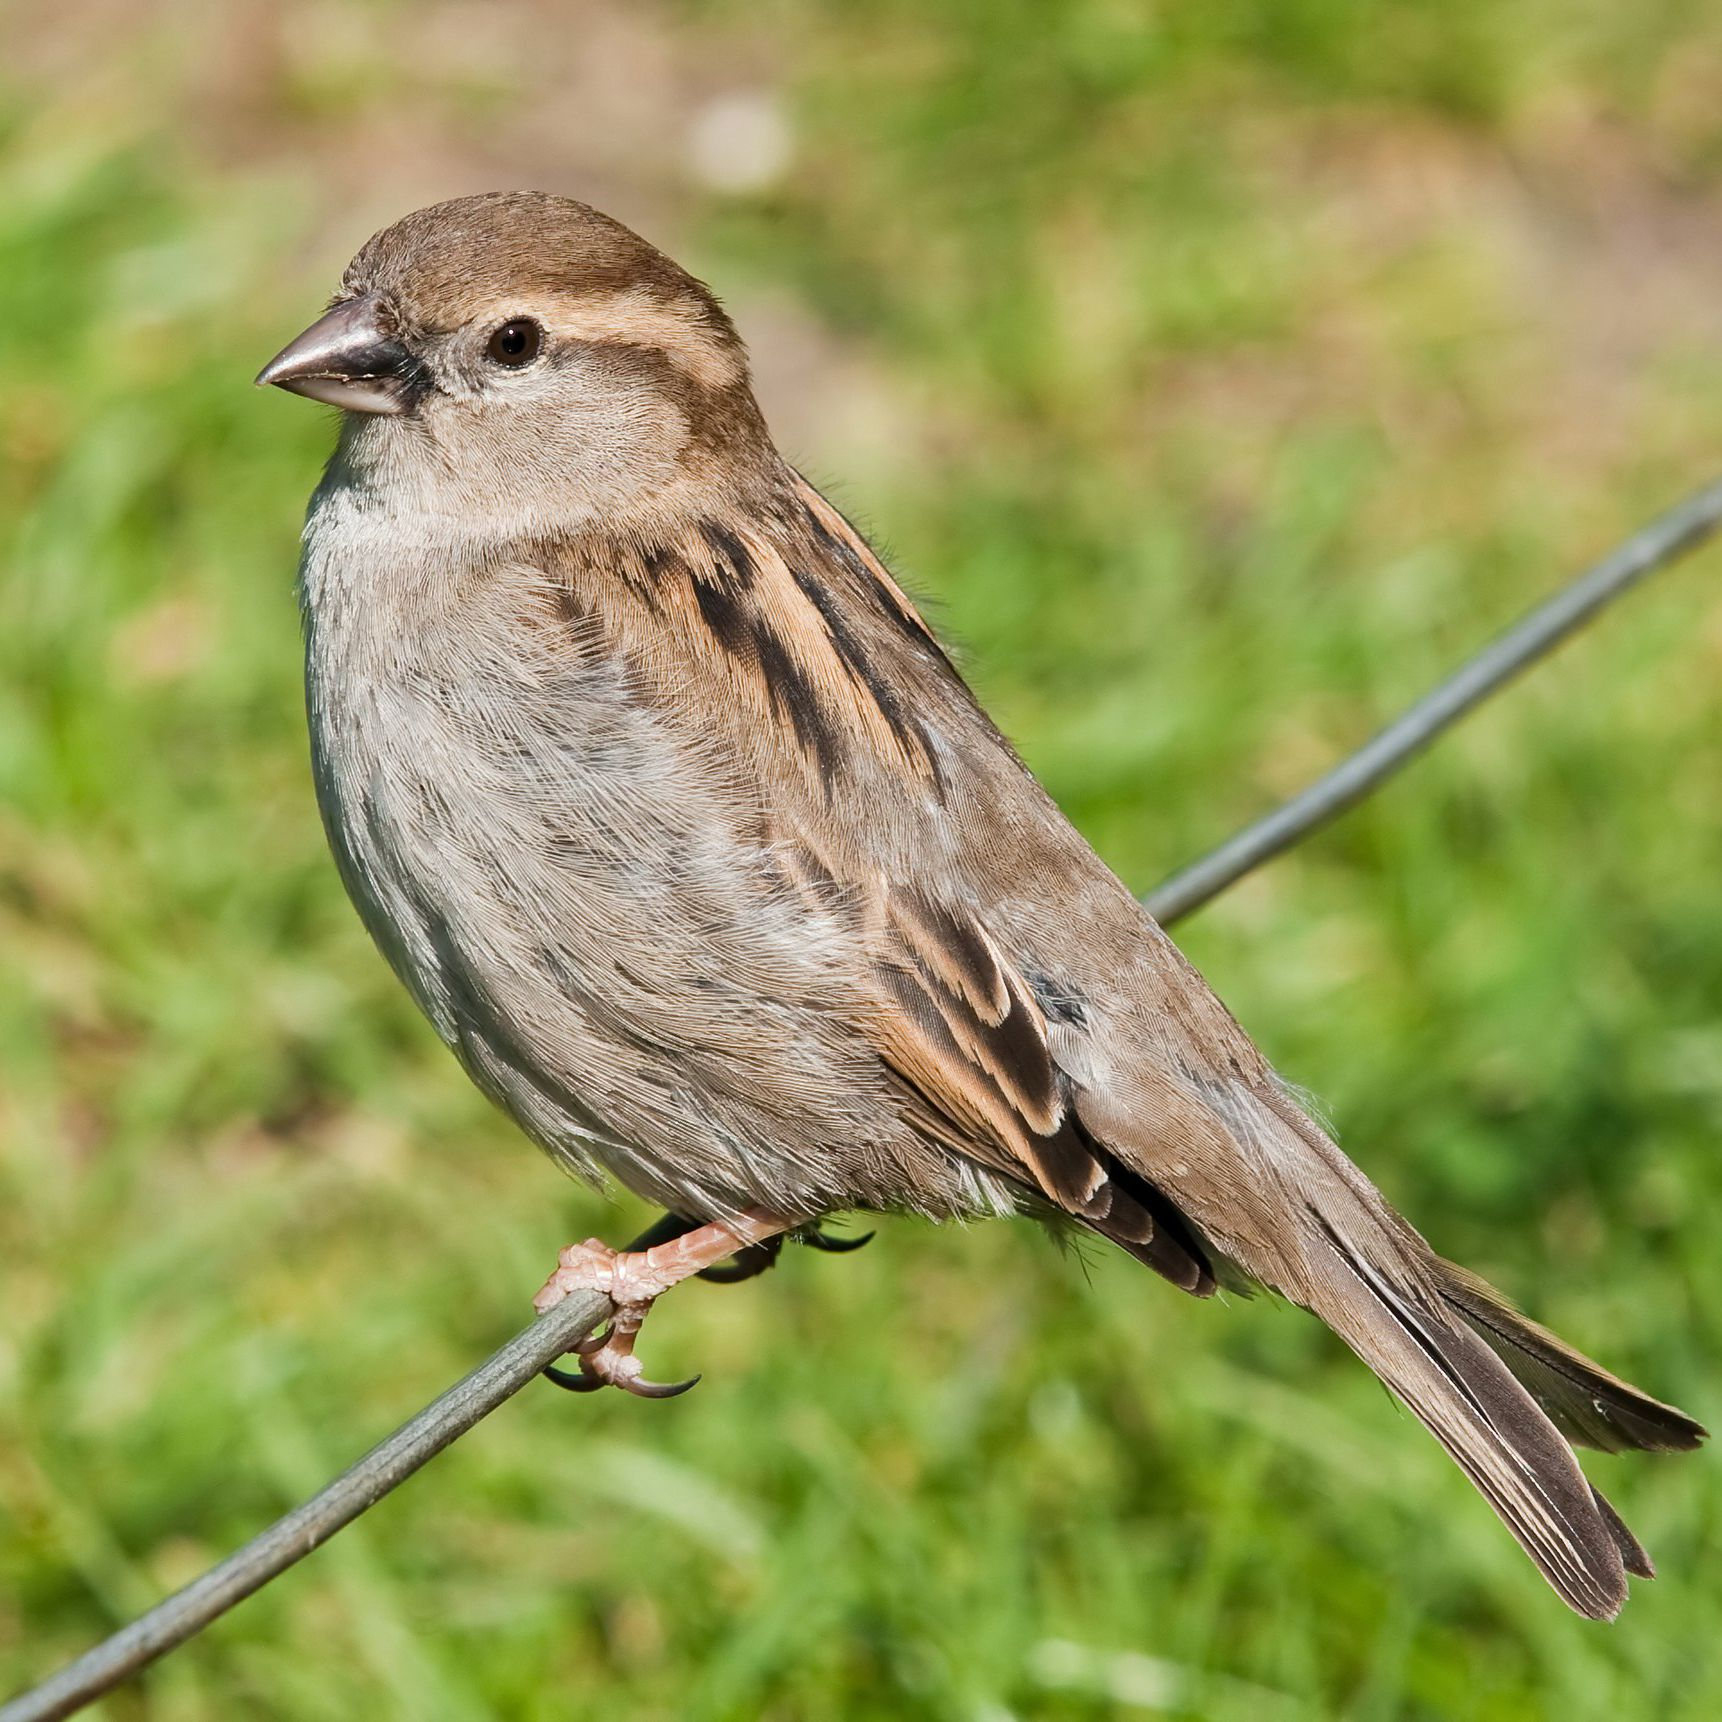bird: (230, 148, 1722, 1638)
